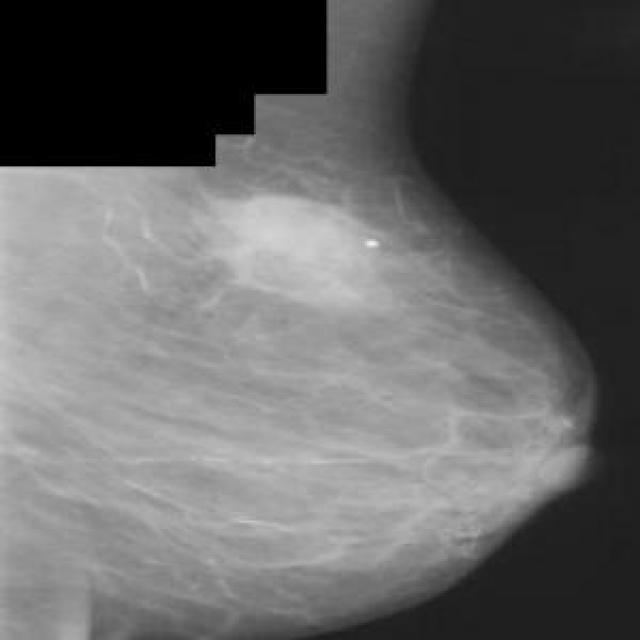tumor: (207, 180, 429, 321)
